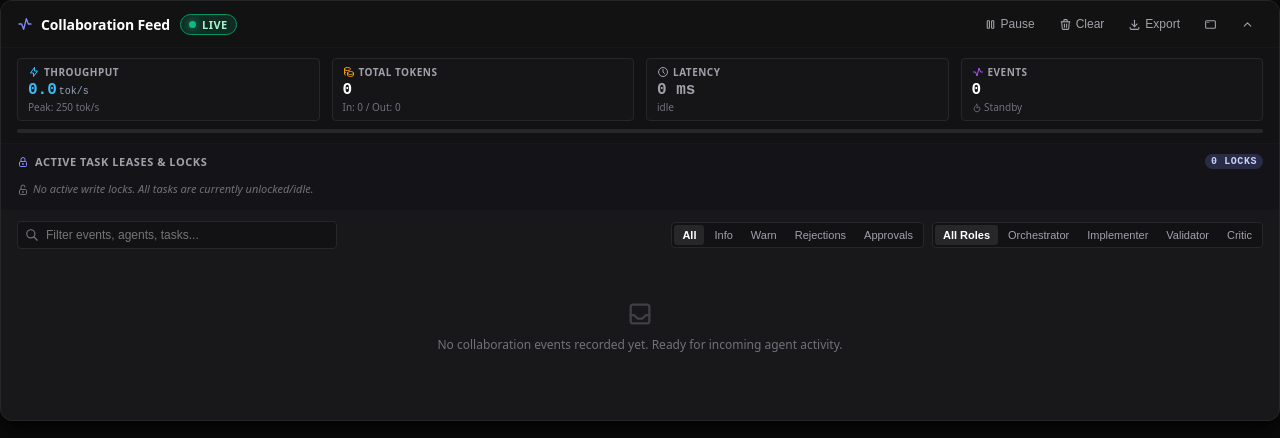
Scenario: Collaboration Feed React Components › CollaborationFeed HUD › collapses and expands the HUD view
Click the button with test id "toggle-collapse-btn". click: [1248, 24]
box: [1232, 12, 1263, 36]
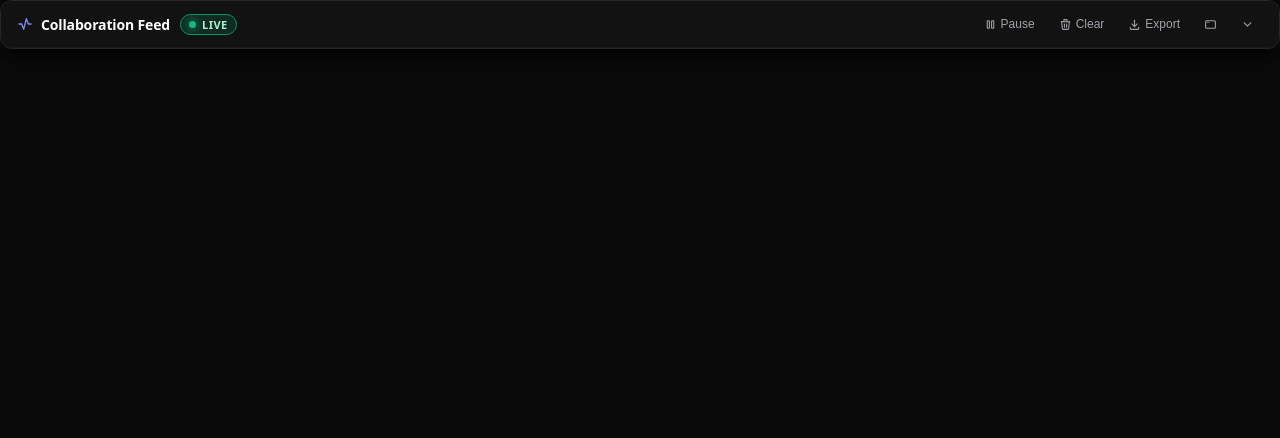
Expected: no elements with test id "feed-toolbar" are shown
Click the button with test id "toggle-collapse-btn". click: [1248, 24]
box: [1232, 12, 1263, 36]
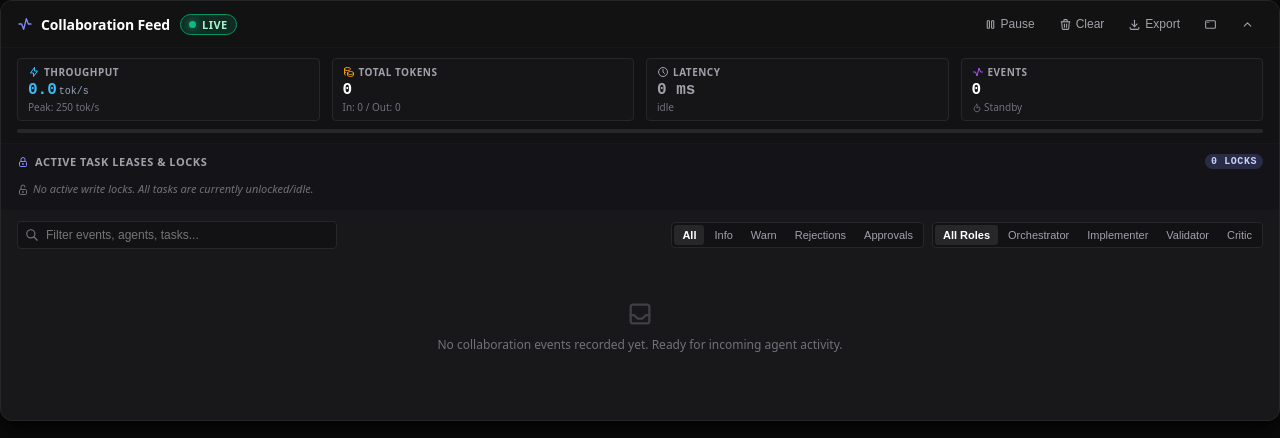
Expected: the number of elements with test id "feed-toolbar" is 1, [1, 211, 1279, 260]
